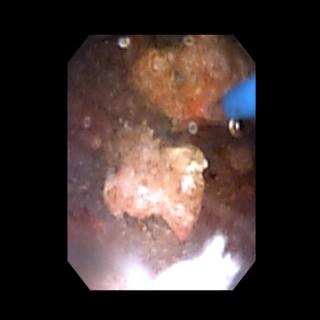fiber: (224, 75, 254, 117)
stone: (124, 36, 252, 136), (104, 122, 207, 241), (215, 149, 253, 203)
